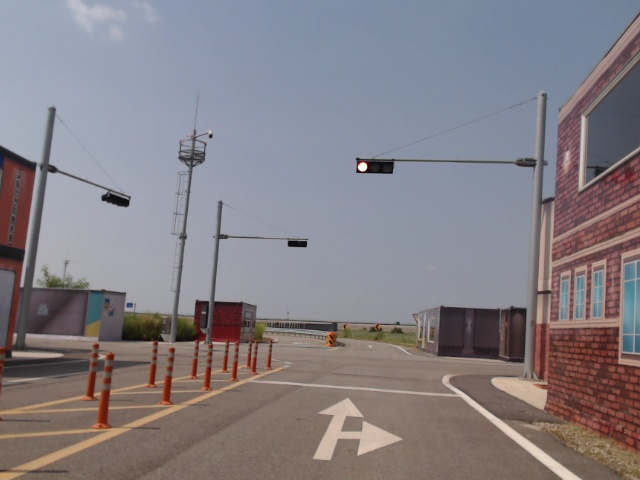red_3: (356, 159, 394, 174)
